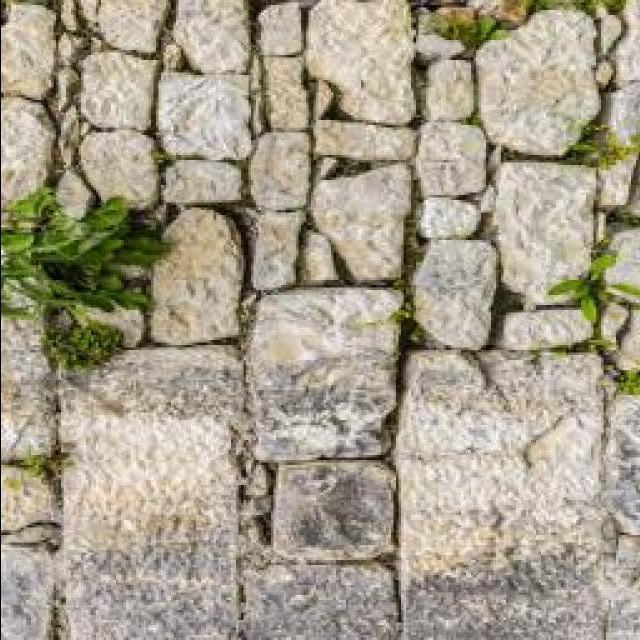vegetation: (1, 182, 168, 372)
